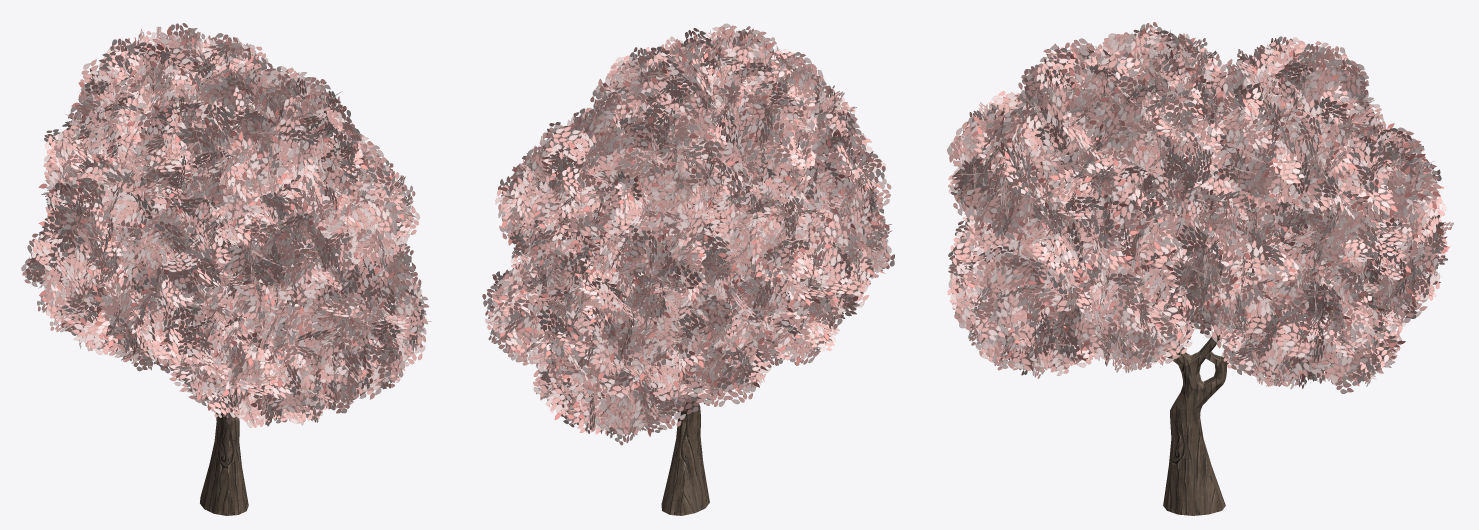
Rendered from Sakura.fbx.
The picture shows the model from 3 angles, left to right: view 1: azimuth 30°, elevation 25°; view 2: azimuth 150°, elevation 25°; view 3: azimuth 270°, elevation 25°; orthographic projection. The views are drawn at different scales.
Parts seen in each view (by area): view 1: Cylinder.005; view 2: Cylinder.005; view 3: Cylinder.005.
Part boxes in pixels (bbox=[...]): Cylinder.005: bbox=[21, 23, 431, 515]; Cylinder.005: bbox=[482, 23, 894, 515]; Cylinder.005: bbox=[947, 22, 1453, 515].
Bounding box in the file's own units: 1747 × 2143 × 2167.
